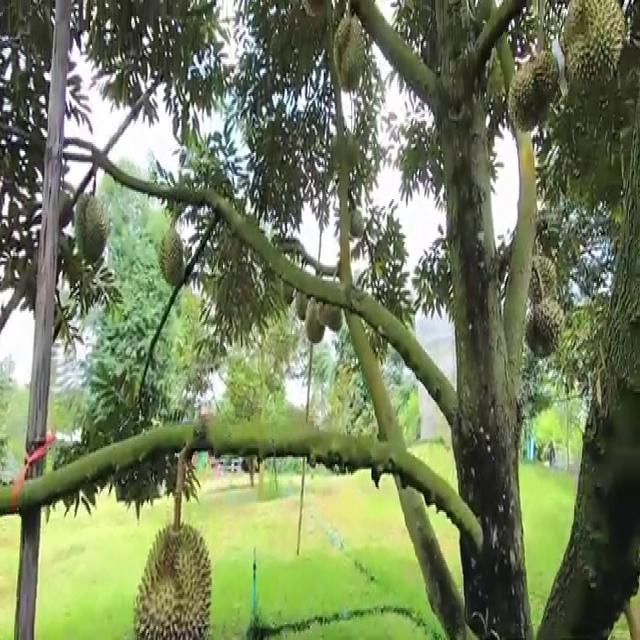durian: (131, 514, 216, 638), (560, 0, 627, 98), (502, 44, 561, 138), (329, 7, 370, 104), (67, 186, 111, 270), (522, 289, 569, 361), (516, 247, 560, 308), (155, 221, 189, 292), (302, 283, 327, 347), (317, 292, 343, 340), (276, 260, 298, 312), (292, 272, 310, 321)
